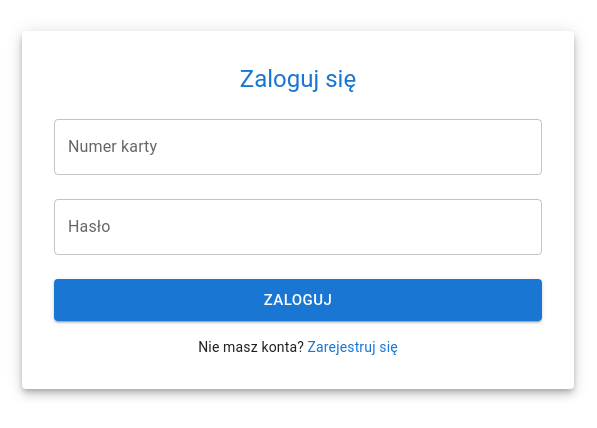
Test: Login Component › should validate card ID format
Type "123" into the field labelled "Numer karty" at (298, 147), box [54, 119, 542, 175]
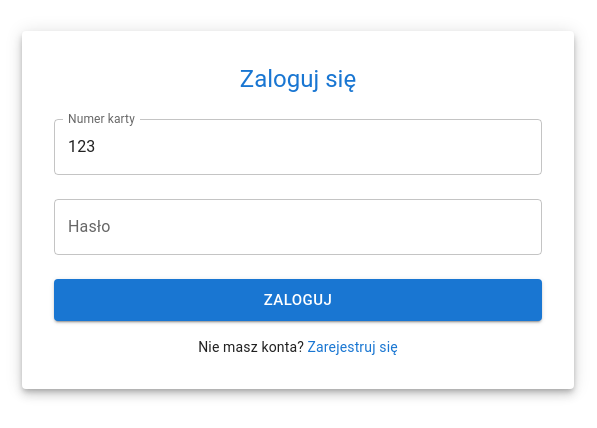
Type "validpassword" into the password field labelled "Hasło" at (298, 227), box [54, 199, 542, 255]
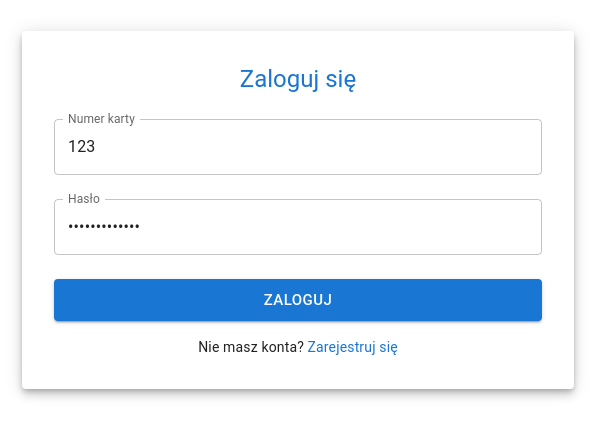
Click the button "Zaloguj" at (298, 300), box [54, 279, 542, 321]
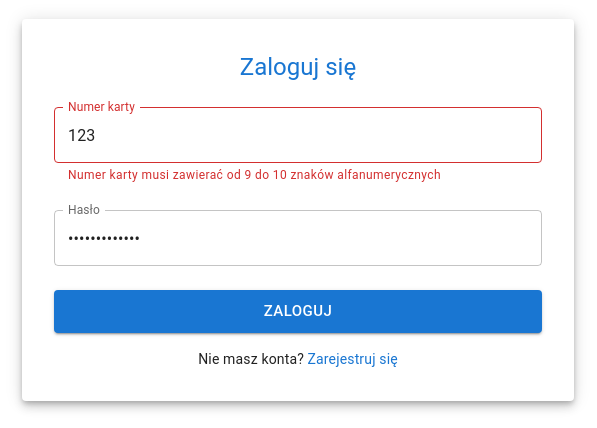
Now the text "Numer karty musi zawierać od 9 do 10 znaków alfanumerycznych" is shown, box [68, 168, 441, 182]
